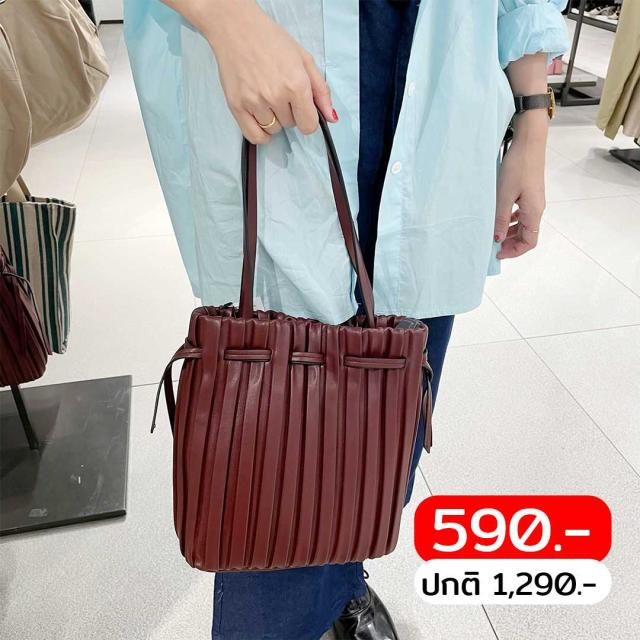Handbag: (143, 293, 438, 601)
